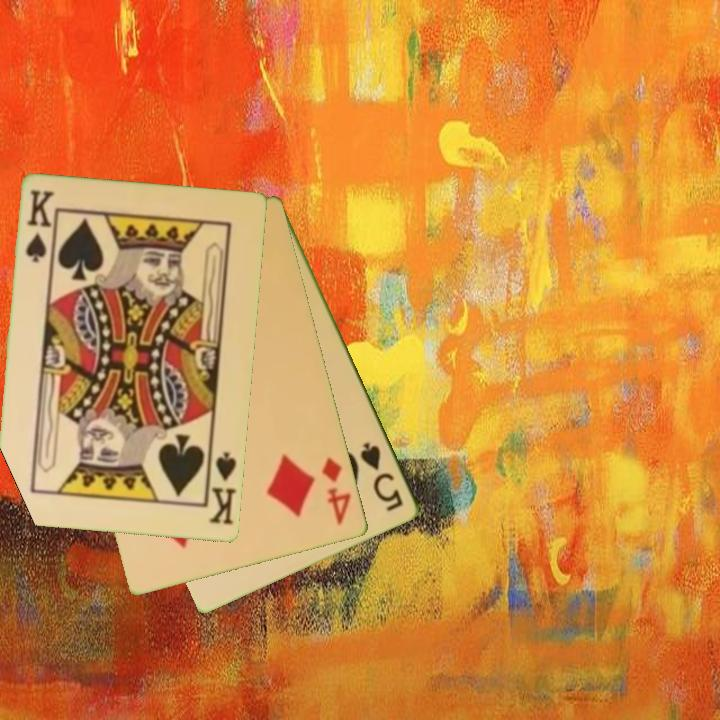4d: (319, 453, 355, 528)
5s: (357, 439, 407, 515)
Ks: (22, 187, 58, 266), (206, 449, 240, 528)
